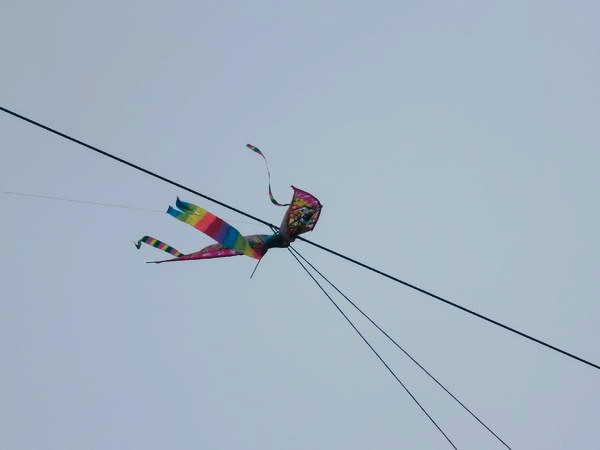wire foreign body: (123, 175, 320, 286)
